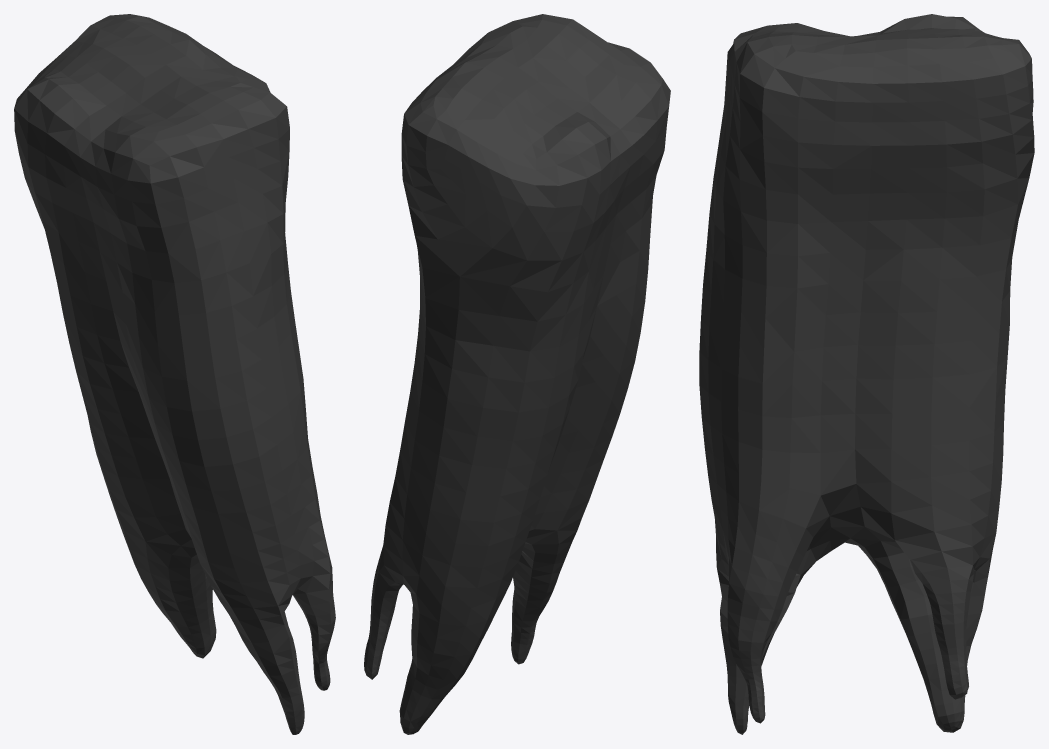
The model's file is L_mand_P3_copy000.glb.
3 views of the same model, side by side, from view 1: azimuth 30°, elevation 25°; view 2: azimuth 150°, elevation 25°; view 3: azimuth 270°, elevation 25° (orthographic). The views are drawn at different scales.
Visible parts, largest first — view 1: L_mand_P3_copy000; view 2: L_mand_P3_copy000; view 3: L_mand_P3_copy000.
Boxes of the visible parts, x1,y1,x2,y2 form: L_mand_P3_copy000: (14,14,335,734); L_mand_P3_copy000: (364,14,670,734); L_mand_P3_copy000: (699,14,1034,734).
Size of the model in its own units: 0.1116 by 0.3134 by 0.1415.
Materials: 1 (1 with a texture image).
